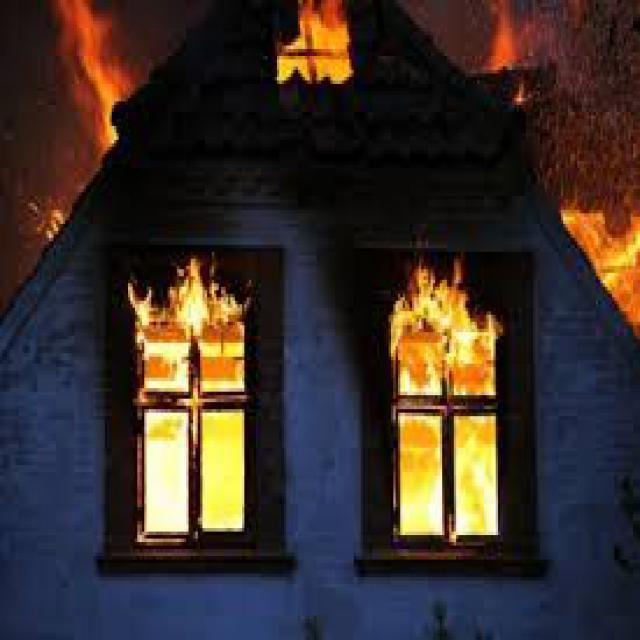Fire: (376, 253, 516, 575), (120, 245, 247, 540), (23, 3, 135, 245), (538, 183, 640, 331), (459, 0, 548, 103), (258, 3, 360, 88)
